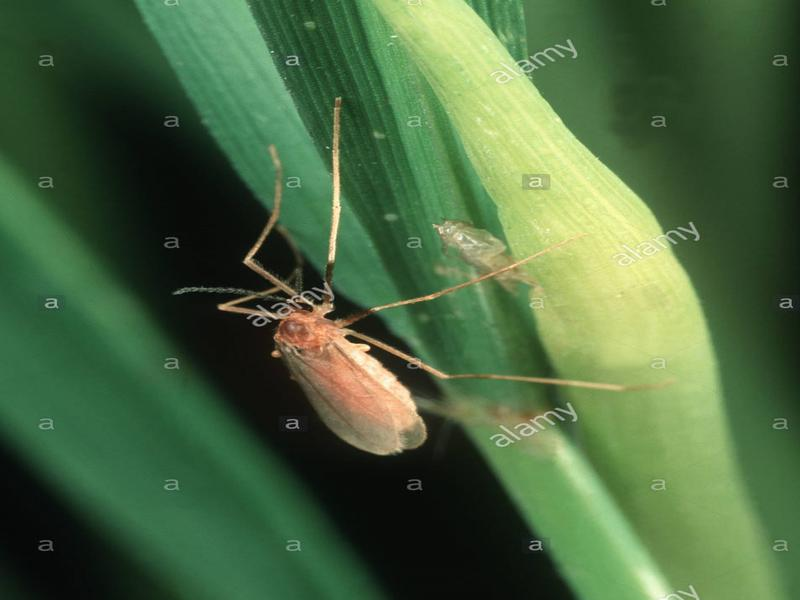Gall_midge: (210, 274, 434, 473), (415, 193, 542, 309)
